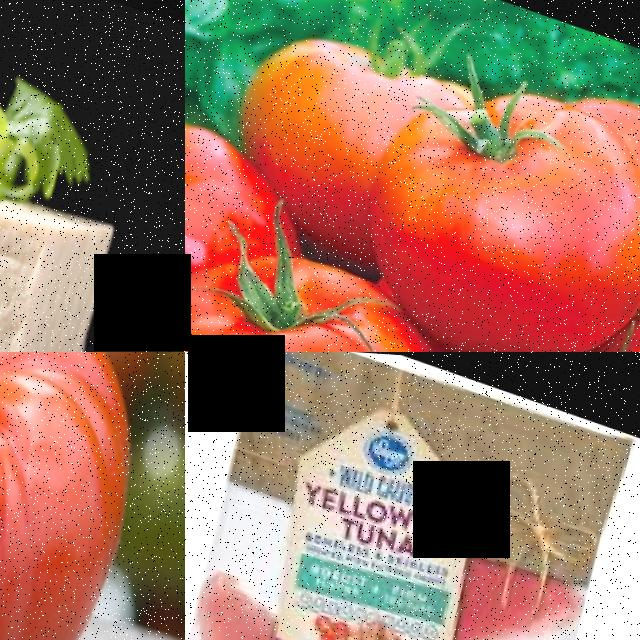tofu: (0, 126, 116, 352)
tomato: (325, 34, 640, 352), (0, 352, 185, 640), (185, 201, 485, 352)
tuna: (185, 572, 289, 640)
